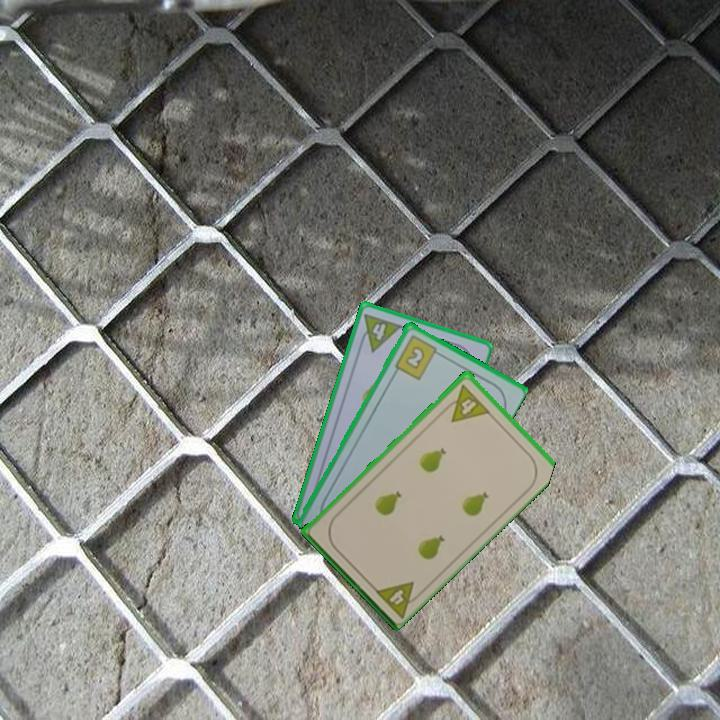2b: (391, 331, 444, 382)
4p: (439, 380, 492, 425), (371, 577, 426, 620), (355, 310, 404, 355)
